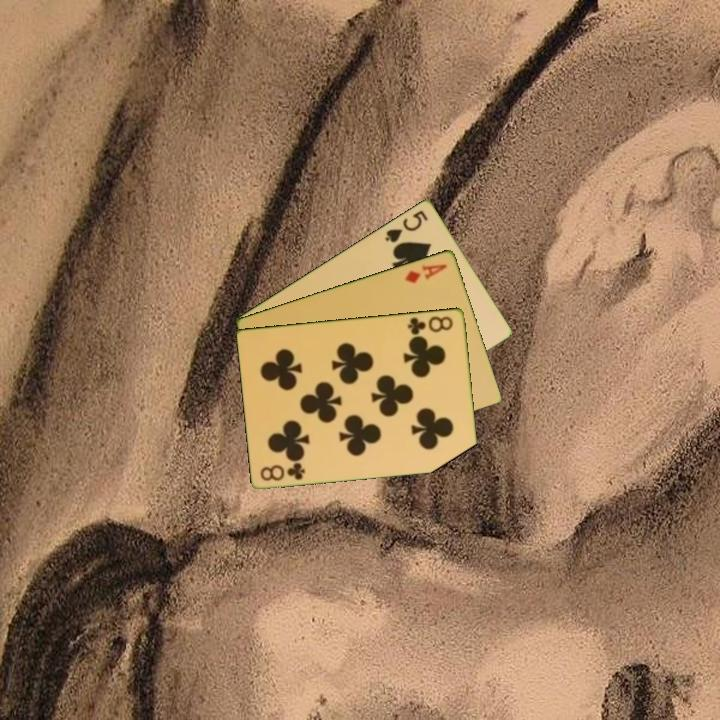5s: (381, 206, 431, 245)
8c: (404, 312, 456, 337), (257, 459, 308, 483)
Ad: (401, 260, 450, 286)
